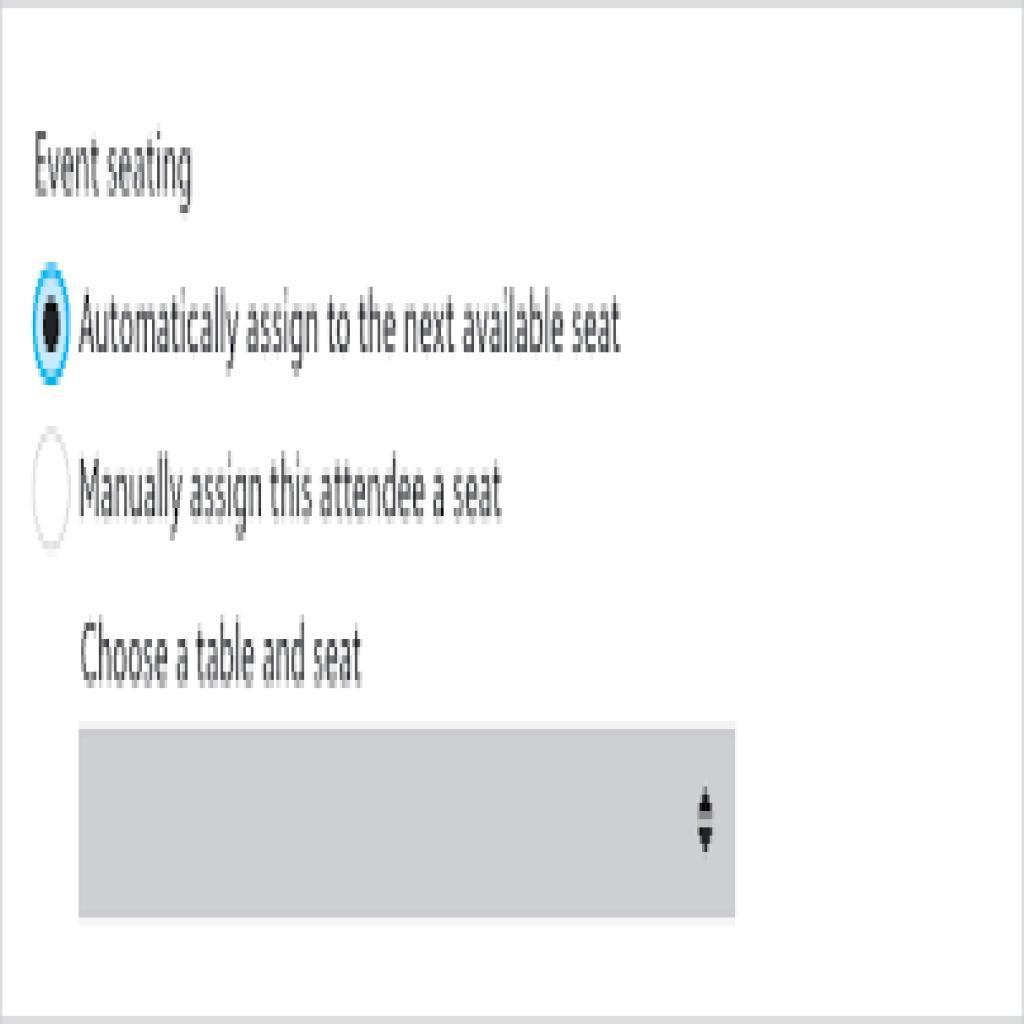dropdown: (77, 732, 733, 915)
radio: (33, 252, 76, 389), (33, 426, 77, 550)
